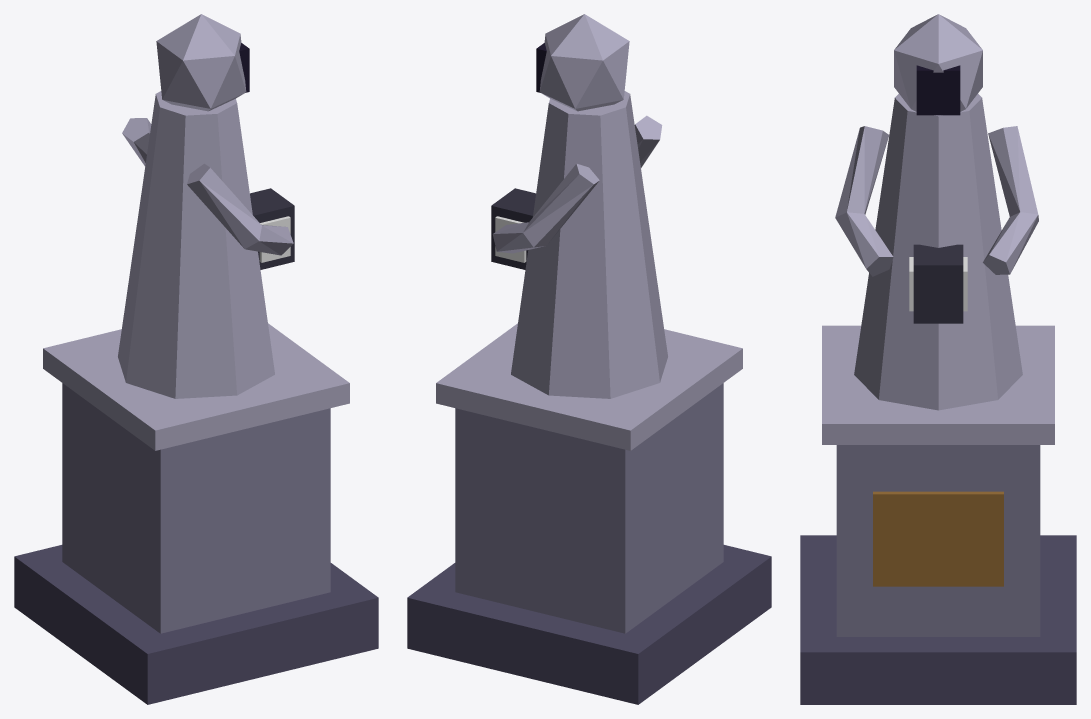
File: Set_Statue.fbx
3 views of the same model, side by side, from view 1: azimuth 30°, elevation 25°; view 2: azimuth 150°, elevation 25°; view 3: azimuth 270°, elevation 25° (orthographic). The views are drawn at different scales.
Visible parts, largest first — view 1: Set_Statue; view 2: Set_Statue; view 3: Set_Statue.
Part boxes in pixels (x1,y1,x2,y2): Set_Statue: (14,14,378,704); Set_Statue: (407,14,771,704); Set_Statue: (800,14,1076,704).
Size of what is drawn, in the model's own units: 1.9 by 4.81 by 1.9.
2 materials, 1 textured.
